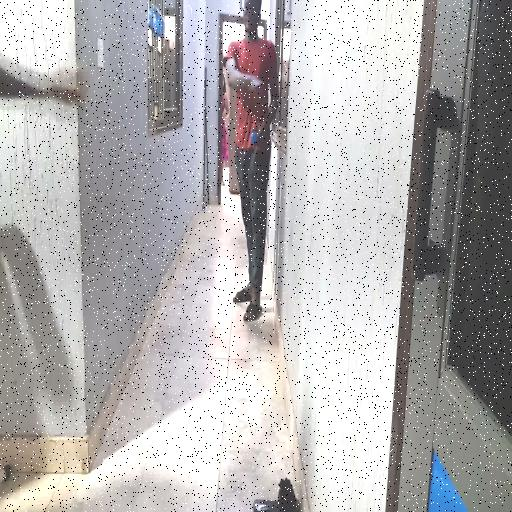plastic-ball: (148, 2, 168, 38)
